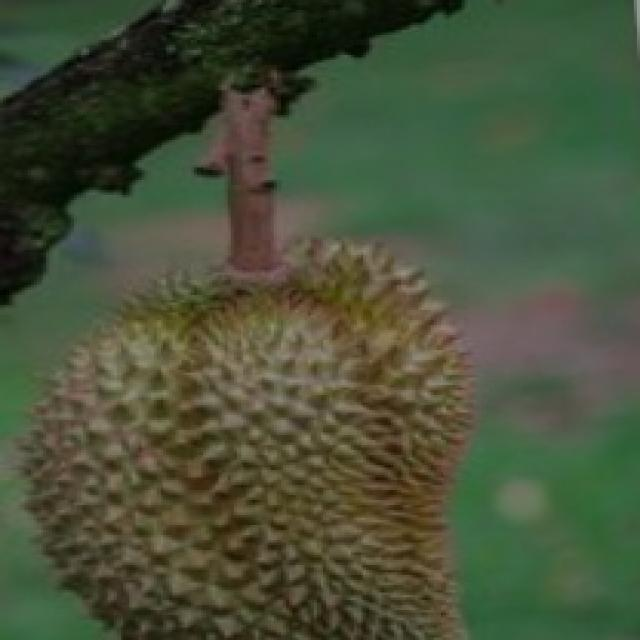fruit: (0, 222, 357, 638)
